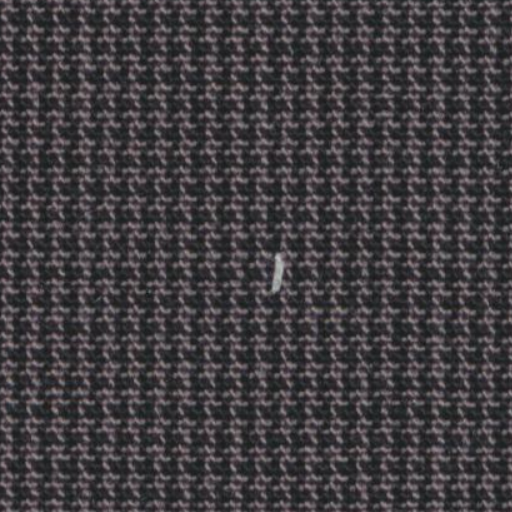DuanSha: (260, 238, 293, 307)
